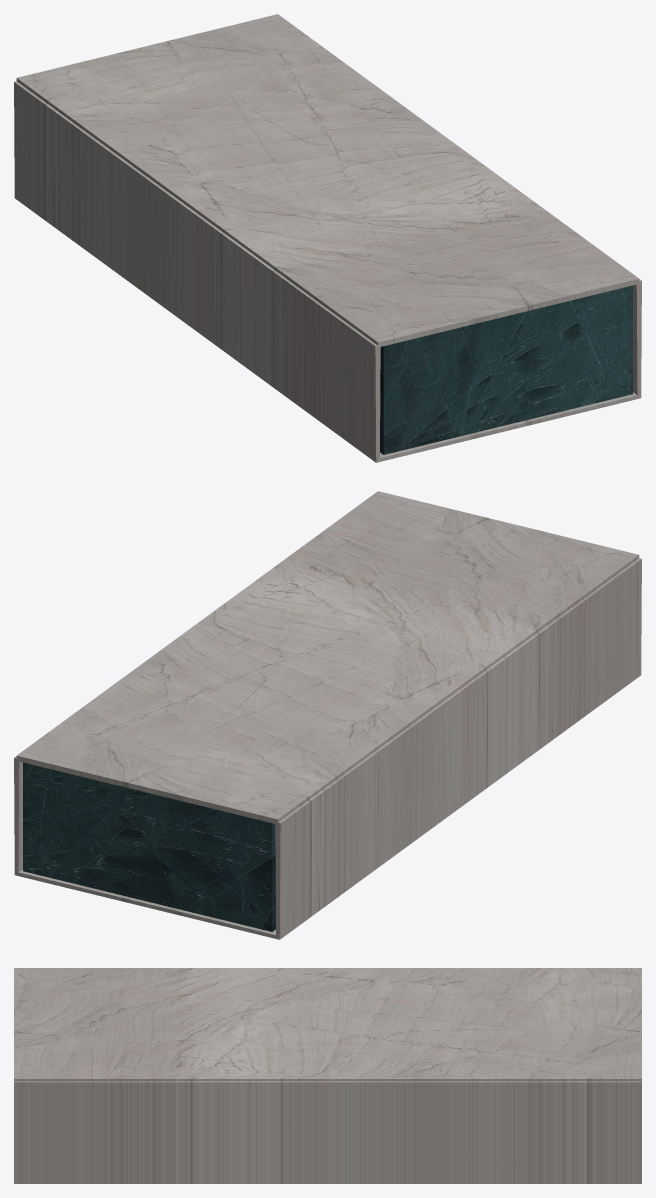
3 renders of one model, top to bottom at view 1: azimuth 30°, elevation 25°; view 2: azimuth 150°, elevation 25°; view 3: azimuth 270°, elevation 25°, orthographic. The views are drawn at different scales.
Parts seen in each view (by area): view 1: Plane.001, Plane, Cube; view 2: Plane.001, Plane, Cube; view 3: Plane.001, Plane.
Boxes of the visible parts, <box> form: Plane.001: <box>16,14,639,347</box>; Plane: <box>14,81,641,462</box>; Cube: <box>380,285,632,454</box>; Plane.001: <box>16,491,639,823</box>; Plane: <box>14,558,641,939</box>; Cube: <box>23,762,275,931</box>; Plane.001: <box>14,968,641,1081</box>; Plane: <box>14,1081,641,1183</box>.
Size of the model in its own units: 2.14 by 0.9198 by 5.02.
Materials: 5 (5 with a texture image).
